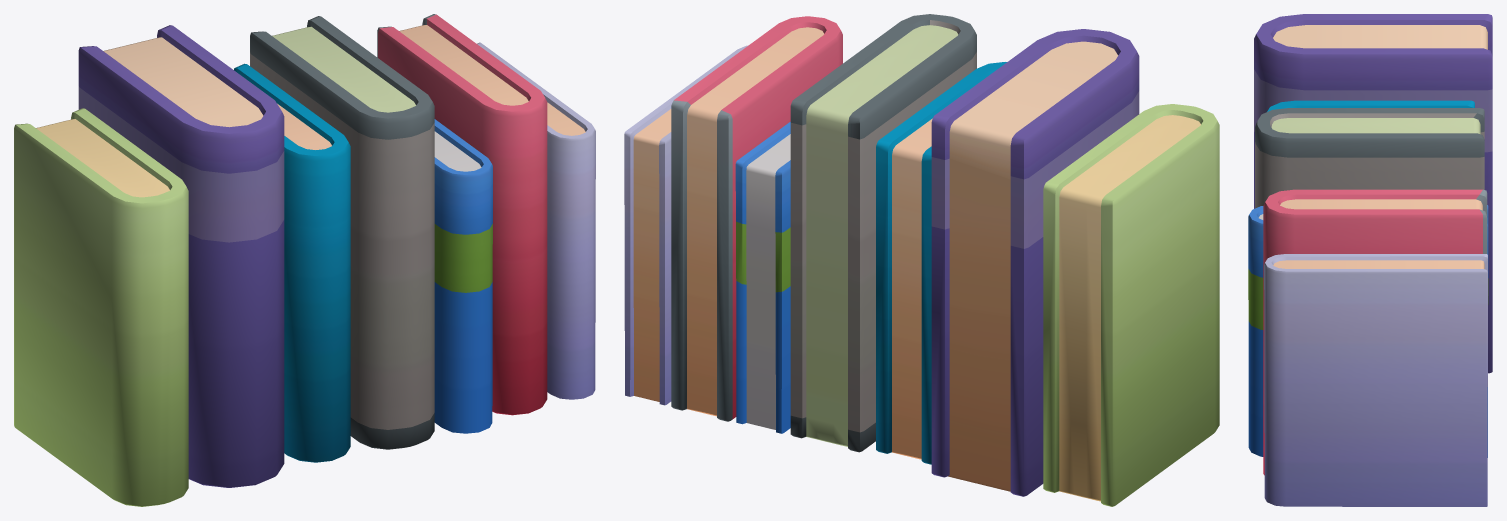
Rendered from Book_05.glb.
3 renders of one model, left to right at view 1: azimuth 30°, elevation 25°; view 2: azimuth 150°, elevation 25°; view 3: azimuth 270°, elevation 25°, orthographic. The views are drawn at different scales.
Visible parts, largest first — view 1: Book_05; view 2: Book_05; view 3: Book_05.
Boxes of the visible parts, x1,y1,x2,y2 form: Book_05: [14, 14, 595, 506]; Book_05: [624, 14, 1219, 506]; Book_05: [1248, 14, 1492, 506].
Bounding box in the file's own units: 0.4457 × 0.3164 × 0.2195.
Materials: 1 (1 with a texture image).
